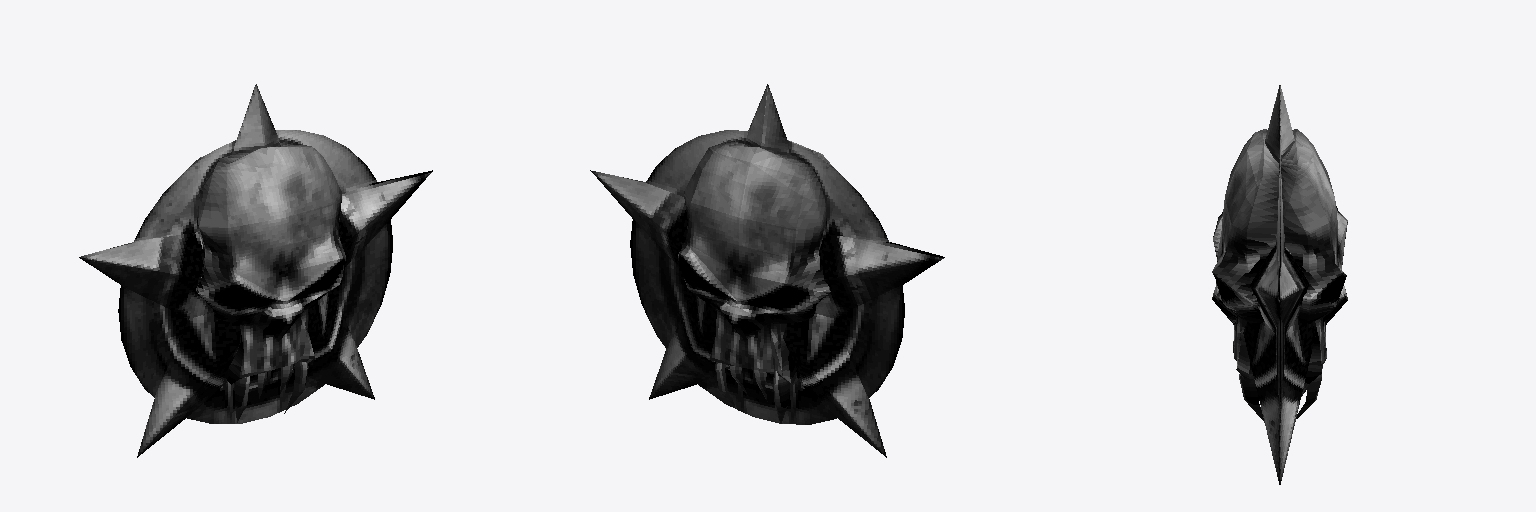
The picture shows the model from 3 angles: view 1: azimuth 30°, elevation 25°; view 2: azimuth 150°, elevation 25°; view 3: azimuth 270°, elevation 25°; orthographic projection.
Size of the model in its own units: 4.82 by 4.48 by 1.6.
Materials: 1 (1 with a texture image).